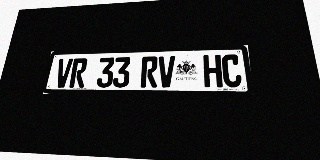3: (96, 57, 115, 88), (112, 57, 131, 87)
C: (221, 54, 242, 87)
H: (203, 55, 223, 87)
R: (69, 58, 88, 88), (140, 56, 158, 87)
V: (54, 58, 73, 88), (158, 56, 175, 87)
